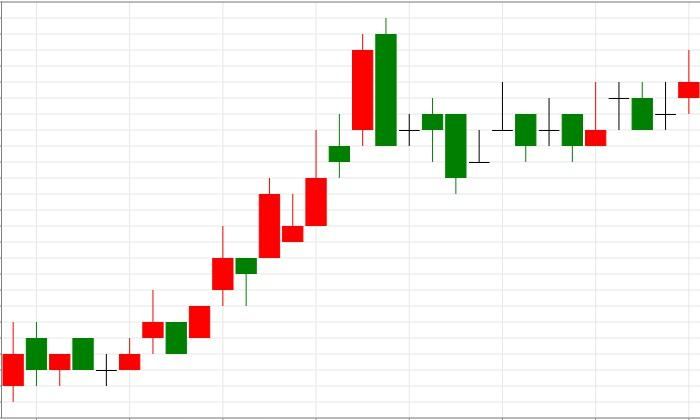bearish_engulfing_fall: (282, 17, 397, 242)
